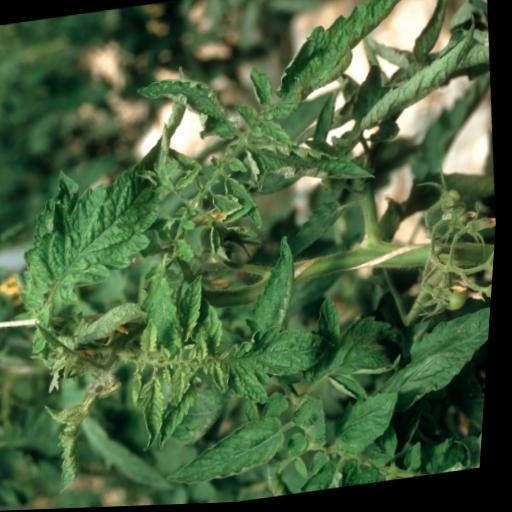Yellow Leaf Curl Virus: (6, 98, 207, 316), (258, 0, 434, 123), (208, 318, 341, 414), (160, 413, 297, 493), (242, 127, 384, 201), (127, 68, 246, 156), (239, 236, 307, 342), (42, 397, 105, 498), (134, 271, 192, 367), (135, 378, 179, 456), (172, 274, 213, 346), (139, 319, 167, 357), (170, 368, 192, 409), (196, 333, 216, 367)
